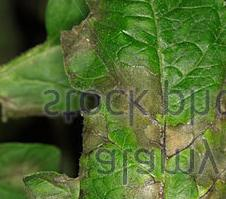Tomato leaf late blight: (24, 0, 226, 199)
